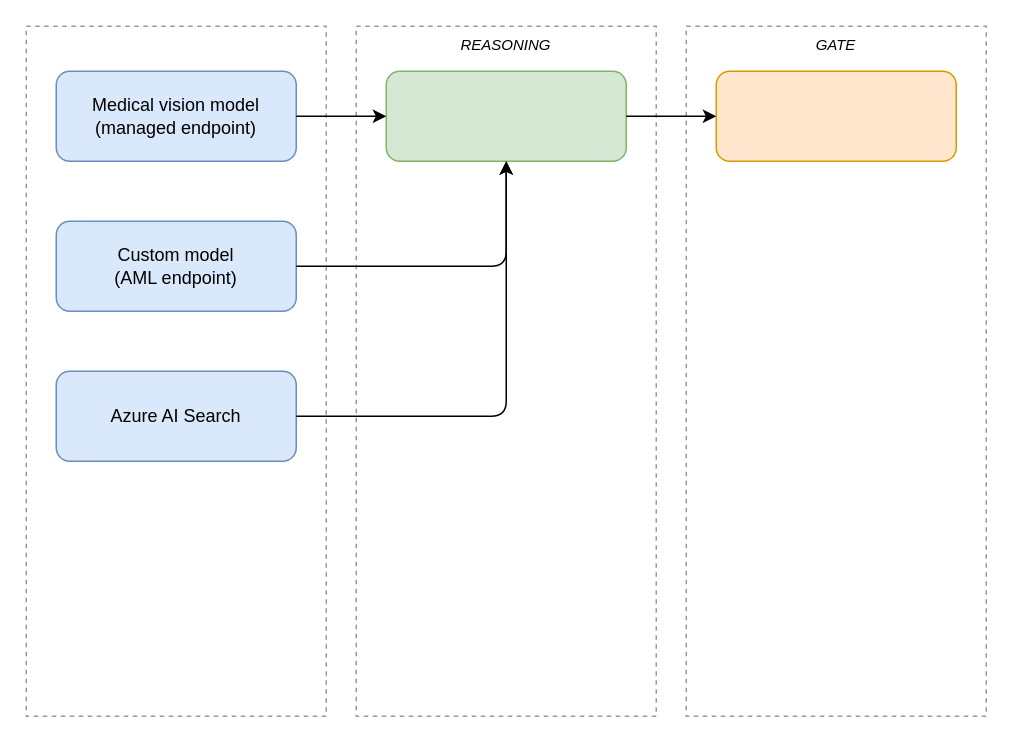
The diagram is 1013 pixels wide and 743 high, and some of its shapes have lost their labels. Here are the shapes that lost their labels. From the top down, the box of each, then its label:
(385, 70, 626, 161): Microsoft Foundry (VLM)
(715, 70, 956, 161): Evaluators + Content Safety
(25, 25, 326, 716): SPECIALIZED INPUTS
